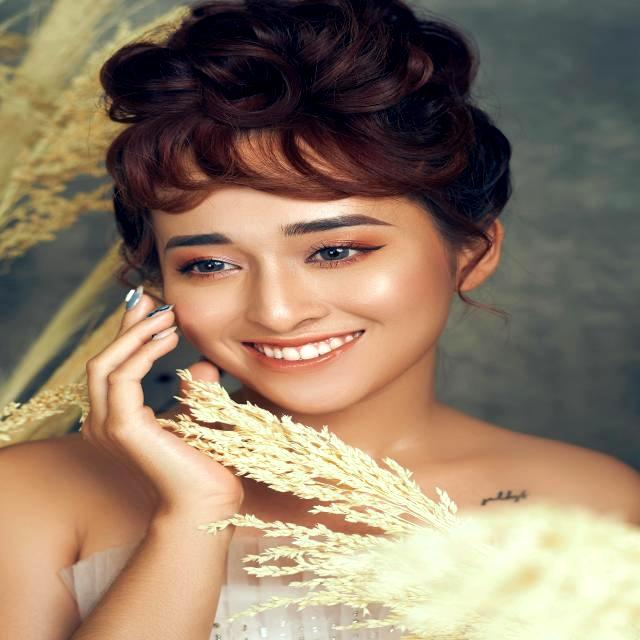no_head_wear: (100, 0, 511, 270)
person: (2, 0, 640, 640)
